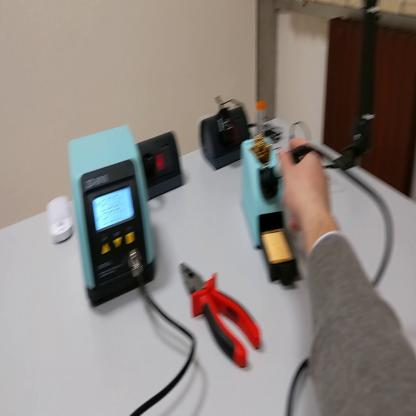hand: (279, 142, 332, 233)
pliers: (179, 263, 262, 371)
socket: (198, 104, 253, 171), (135, 131, 184, 200)
welder base: (239, 138, 300, 289)
welder probe tip: (257, 150, 307, 192)
welder station: (69, 124, 157, 310)
